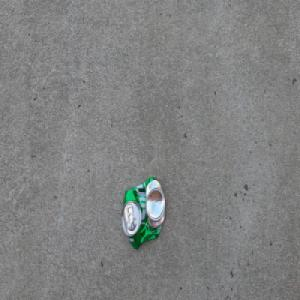SodaCan: (120, 176, 165, 251)
